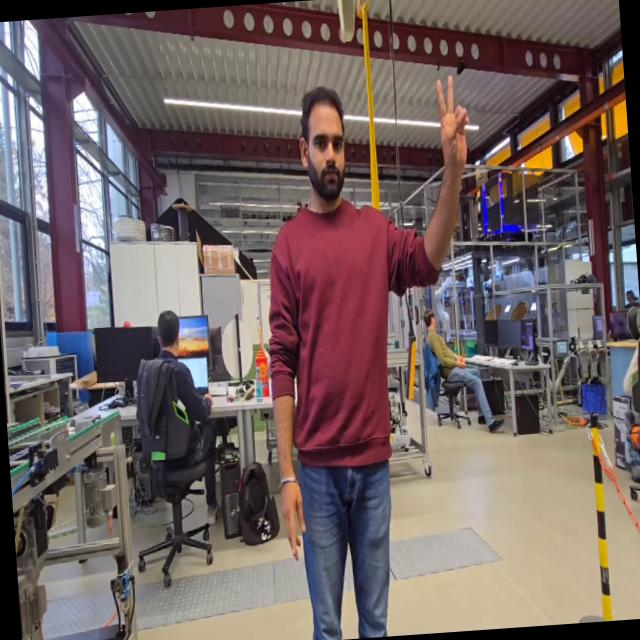v_sign: (432, 70, 474, 179)
